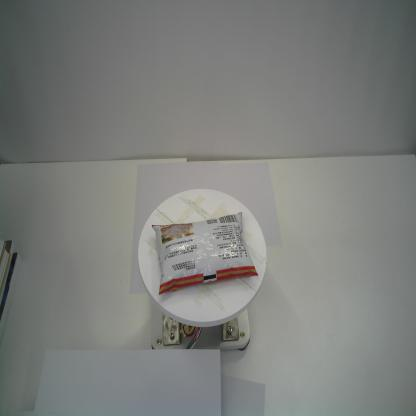Seasoner: (150, 208, 260, 298)
